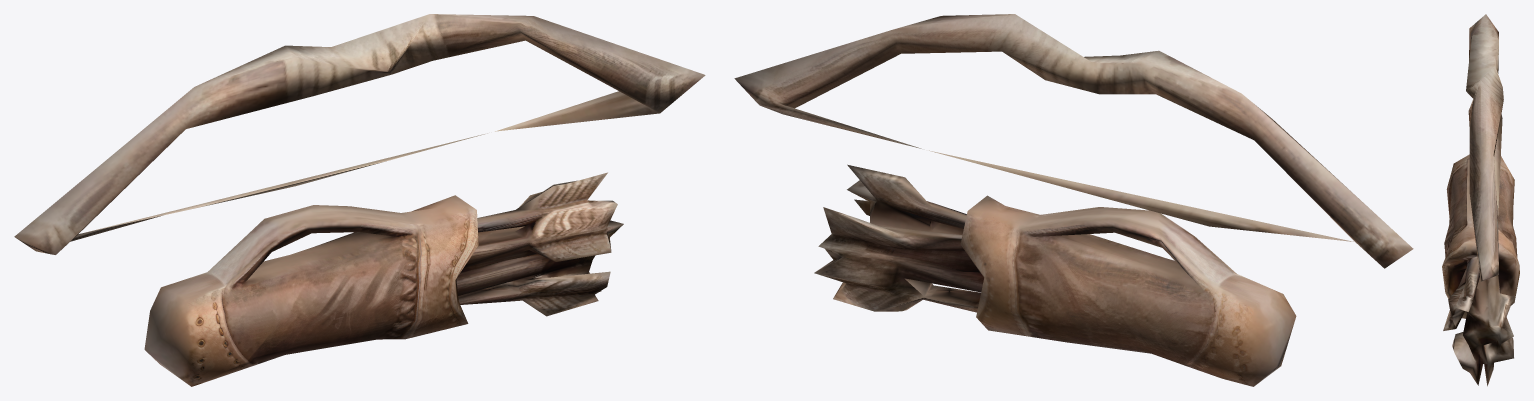
Rendered from BowAndQuiver.glb.
3 renders of one model, left to right at view 1: azimuth 30°, elevation 25°; view 2: azimuth 150°, elevation 25°; view 3: azimuth 270°, elevation 25°, orthographic. The views are drawn at different scales.
Parts seen in each view (by area): view 1: tripo_node_23fe1455-b37a-440d-b7e9-f921e7a57c0a; view 2: tripo_node_23fe1455-b37a-440d-b7e9-f921e7a57c0a; view 3: tripo_node_23fe1455-b37a-440d-b7e9-f921e7a57c0a.
Boxes of the visible parts, x1=… form: tripo_node_23fe1455-b37a-440d-b7e9-f921e7a57c0a: x1=14, y1=14, x2=705, y2=386; tripo_node_23fe1455-b37a-440d-b7e9-f921e7a57c0a: x1=734, y1=14, x2=1413, y2=386; tripo_node_23fe1455-b37a-440d-b7e9-f921e7a57c0a: x1=1442, y1=14, x2=1519, y2=386.
Bounding box in the file's own units: 0.9607 × 0.4384 × 0.1278.
1 material, 1 textured.
